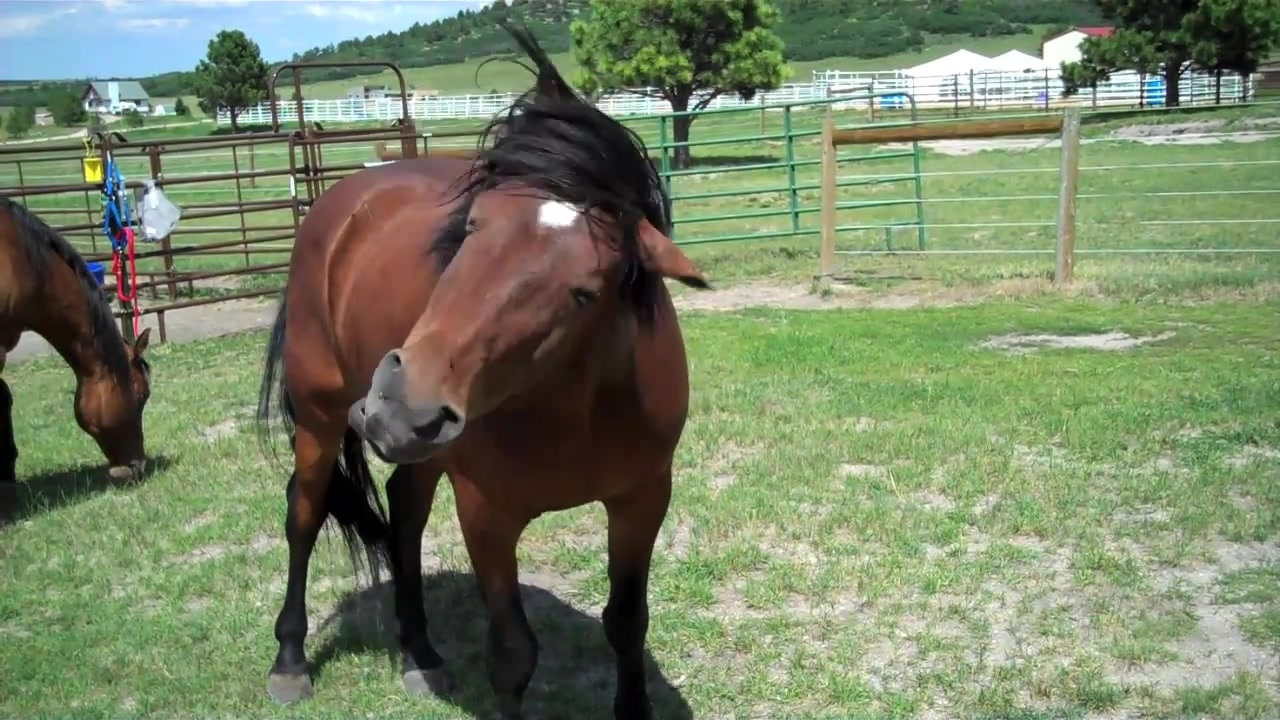horse: (256, 19, 718, 720), (1, 189, 155, 523)
